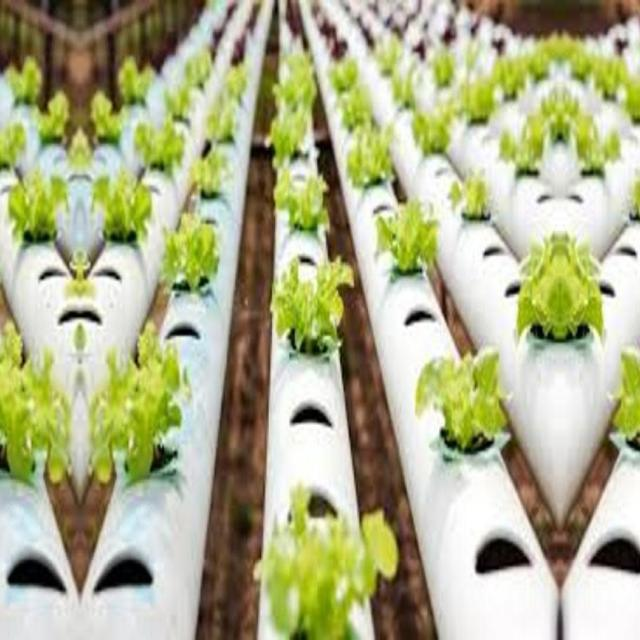healthy: (258, 484, 394, 640), (97, 337, 189, 477), (414, 351, 512, 455), (0, 337, 63, 477), (278, 258, 350, 348), (368, 199, 444, 277), (514, 228, 560, 346), (560, 228, 606, 346), (161, 210, 225, 294), (88, 172, 162, 244), (0, 171, 71, 244), (493, 115, 552, 177), (276, 170, 334, 232), (568, 115, 626, 177), (130, 119, 188, 177), (608, 351, 640, 455), (190, 150, 243, 210), (261, 108, 313, 166), (452, 167, 502, 226), (452, 74, 502, 132), (407, 105, 458, 155), (85, 92, 129, 142), (31, 92, 75, 142), (116, 58, 156, 104), (4, 58, 44, 104), (337, 86, 375, 132), (0, 119, 30, 177), (163, 82, 194, 125), (618, 166, 640, 225), (618, 73, 640, 132), (208, 100, 236, 140)
